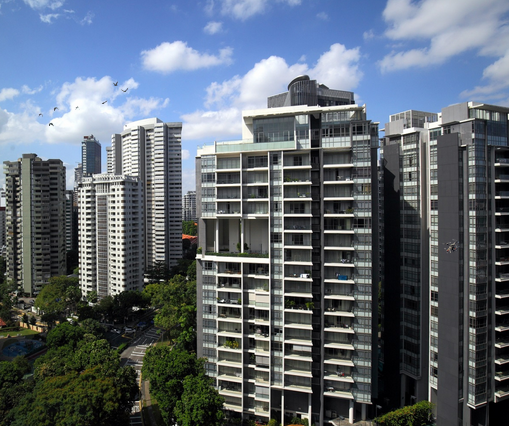drone_other: (442, 238, 461, 254)
